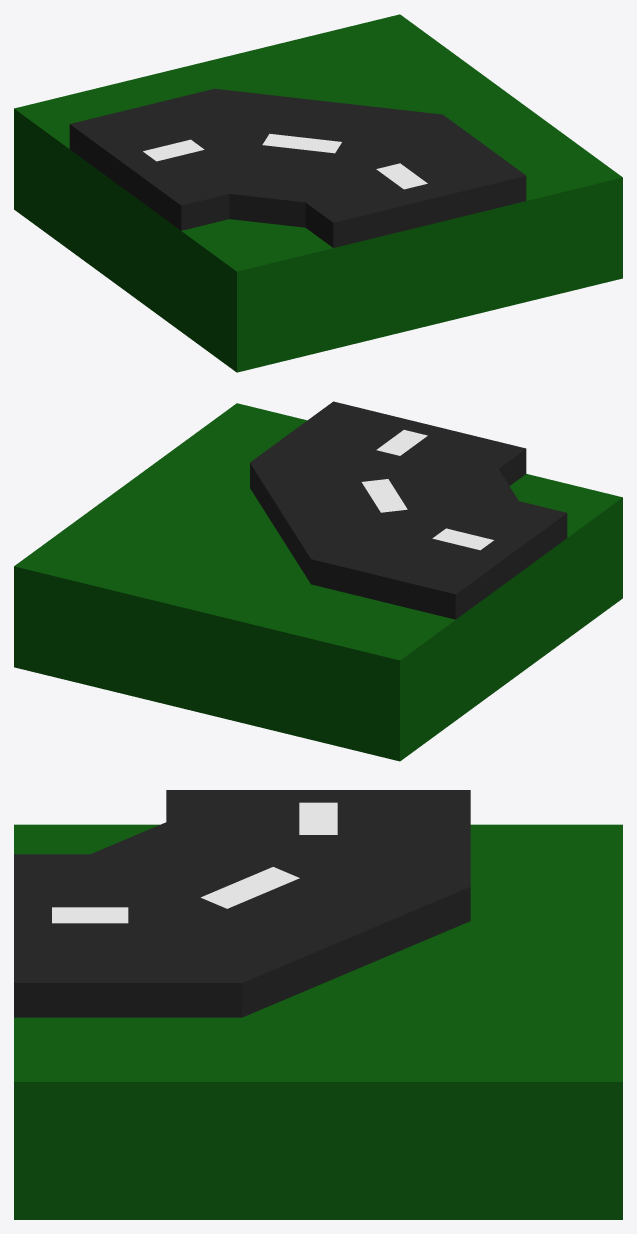
The picture shows the model from 3 angles, top to bottom: view 1: azimuth 30°, elevation 25°; view 2: azimuth 150°, elevation 25°; view 3: azimuth 270°, elevation 25°; orthographic projection. The views are drawn at different scales.
Parts seen in each view (by area): view 1: grass, road, plane; view 2: grass, road, plane; view 3: grass, road, plane.
Boxes of the visible parts, left/top/right/bottom form: grass: left=14, top=14, right=622, bottom=372; road: left=69, top=88, right=526, bottom=247; plane: left=143, top=133, right=427, bottom=189; grass: left=14, top=403, right=622, bottom=761; road: left=250, top=401, right=567, bottom=619; plane: left=361, top=430, right=493, bottom=550; grass: left=14, top=824, right=622, bottom=1219; road: left=14, top=790, right=470, bottom=1017; plane: left=52, top=802, right=337, bottom=923.
Bounding box in the file's own units: 0.25 × 0.0797 × 0.25.
1 material, 1 textured.
